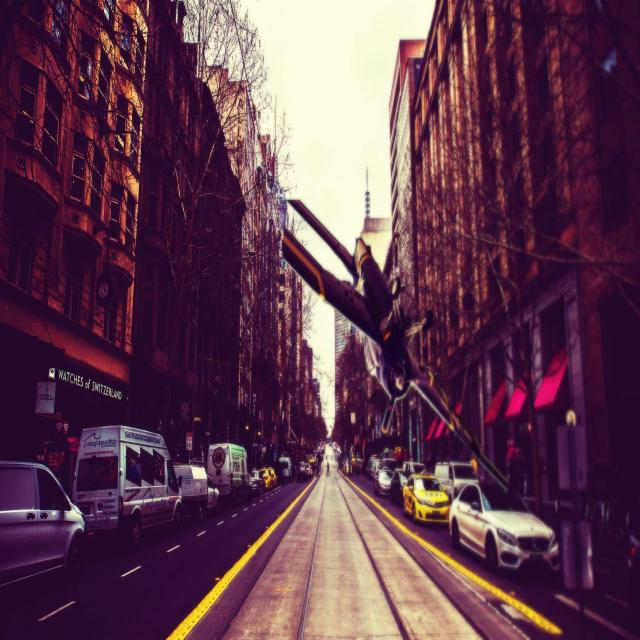airplane: (280, 196, 510, 494)
